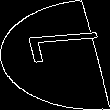L_E: (8, 36, 102, 74)
